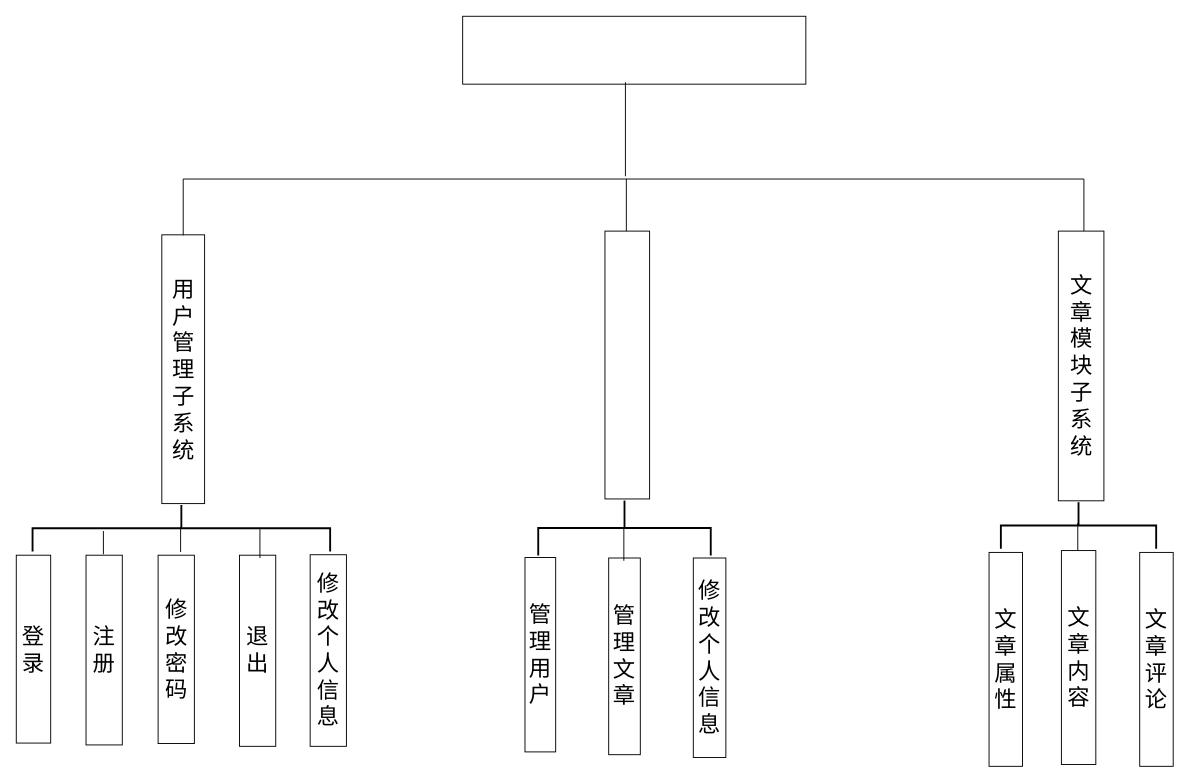
Image size: 1189x783. Some labels were removed from this diagram. Each missing label, with the centre of its shape:
"校园博客系统" goes at (x=634, y=49).
"管理员信息管理子系统" goes at (x=627, y=364).
